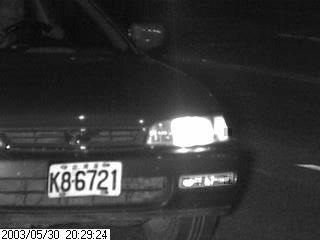plate: (46, 159, 122, 199)
